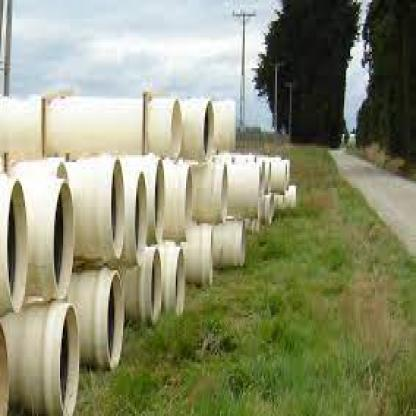PVC: (1, 92, 185, 156), (15, 159, 75, 304), (2, 303, 80, 413), (68, 156, 128, 271), (62, 267, 125, 369), (218, 148, 296, 220), (0, 156, 30, 313), (131, 155, 166, 246), (124, 243, 162, 324), (161, 157, 197, 241), (124, 152, 149, 263), (179, 98, 216, 162), (158, 241, 188, 318), (193, 160, 230, 220), (185, 223, 218, 286), (215, 219, 248, 269), (212, 98, 237, 151), (0, 318, 12, 413), (29, 156, 72, 181)
